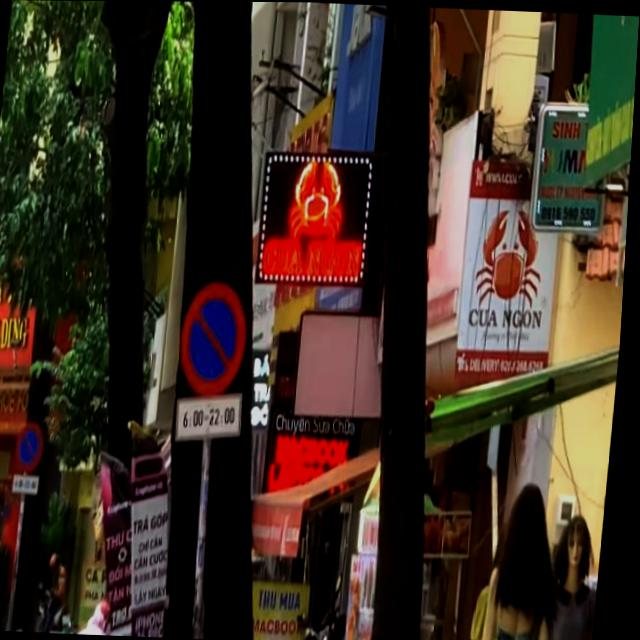Cam do xe: (181, 279, 255, 397), (19, 422, 51, 472)
